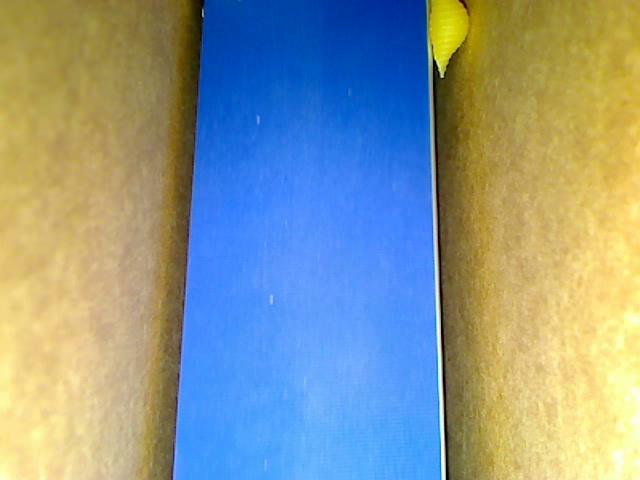shell: (422, 1, 469, 81)
